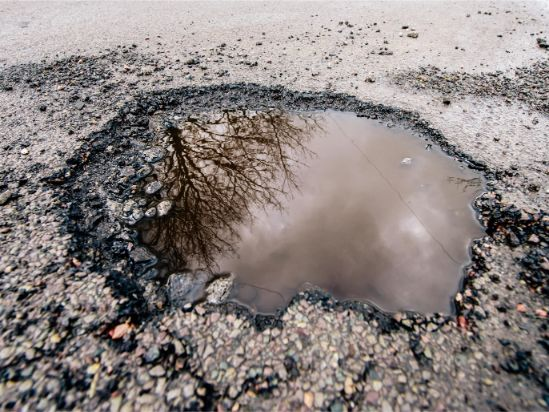pothole: (37, 77, 505, 341)
